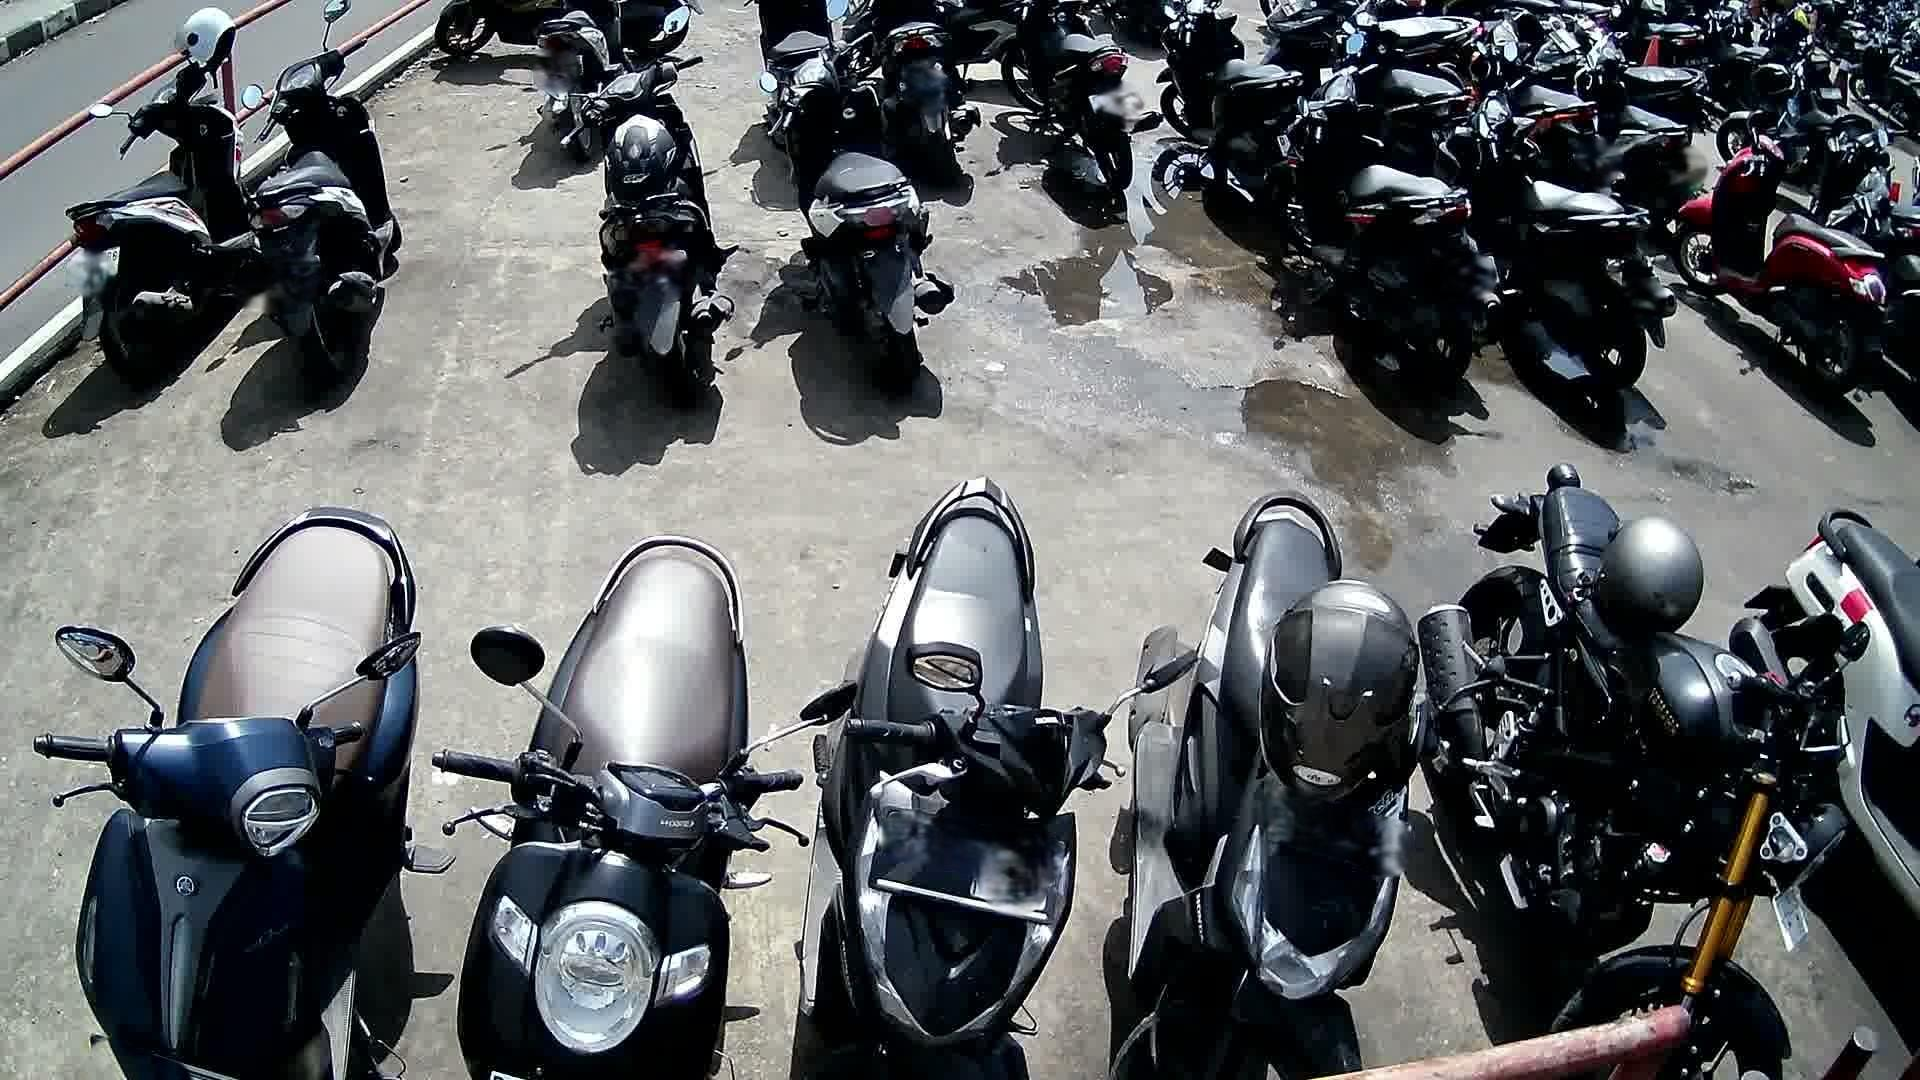motorcycle: (1420, 462, 1848, 1080), (30, 508, 458, 1080), (794, 479, 1194, 1080), (436, 537, 804, 1080), (1114, 492, 1433, 1080), (1266, 64, 1506, 396), (1732, 509, 1920, 928), (1434, 86, 1677, 395), (760, 33, 957, 393), (243, 0, 405, 405), (558, 54, 741, 408), (66, 63, 259, 385), (1675, 128, 1891, 395), (1813, 113, 1920, 384)
